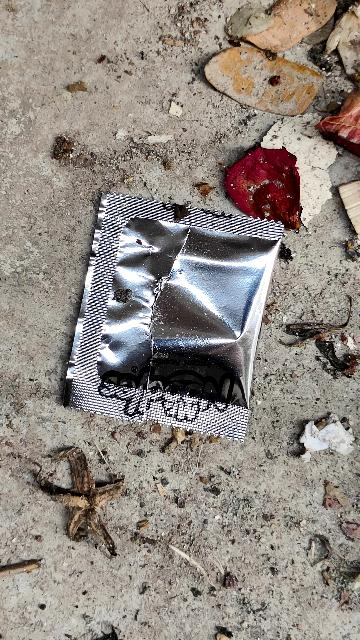packet: (57, 191, 285, 448)
